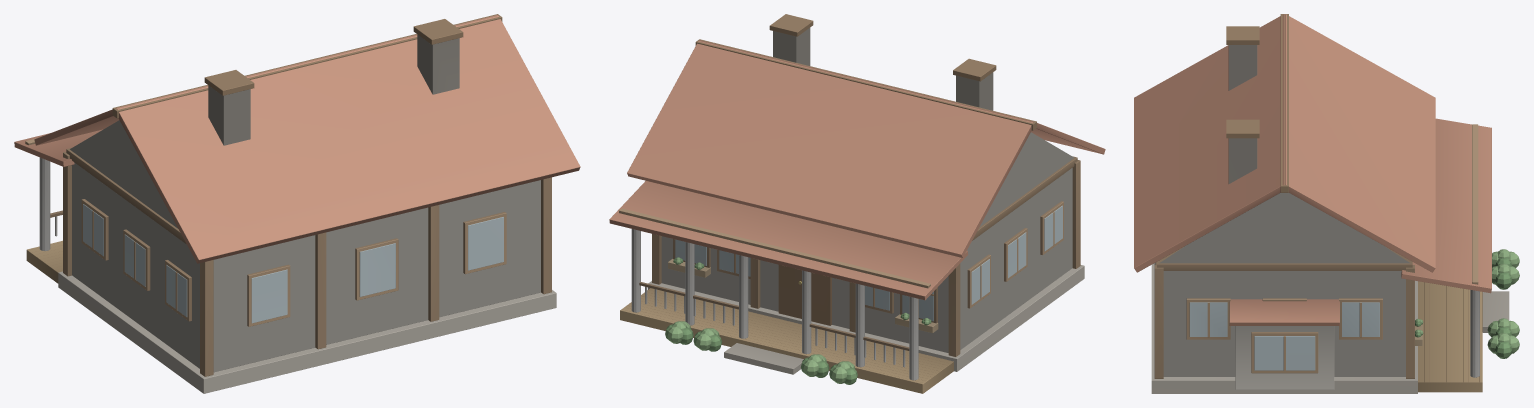
Rendered from home_manor__red.glb.
3 renders of one model, left to right at view 1: azimuth 30°, elevation 25°; view 2: azimuth 150°, elevation 25°; view 3: azimuth 270°, elevation 25°, orthographic. The views are drawn at different scales.
Size of the model in its own units: 11.05 by 6.87 by 10.14.
